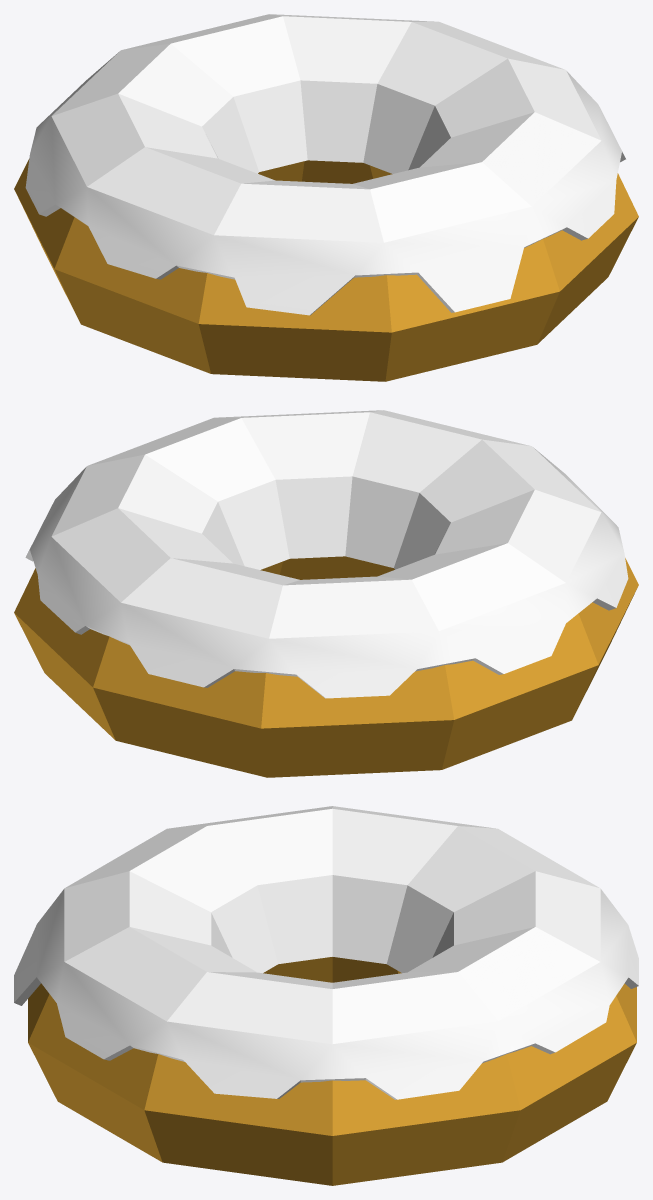
Rendered from PW_doughnut_white.fbx.
3 renders of one model, top to bottom at view 1: azimuth 30°, elevation 25°; view 2: azimuth 150°, elevation 25°; view 3: azimuth 270°, elevation 25°, orthographic.
Visible parts, largest first — view 1: doughnut_white; view 2: doughnut_white; view 3: doughnut_white.
Boxes of the visible parts, x1,y1,x2,y2 form: doughnut_white: [14, 14, 638, 381]; doughnut_white: [14, 410, 638, 777]; doughnut_white: [14, 806, 638, 1185].
Bounding box in the file's own units: 30 × 9.87 × 29.28.
Materials: 1 (1 with a texture image).
